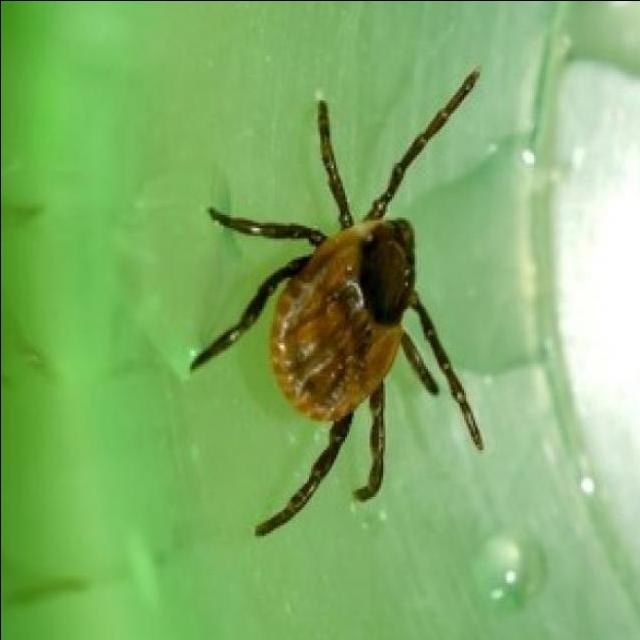Rhipicephalus Sanguineus-F: (189, 68, 483, 535)
